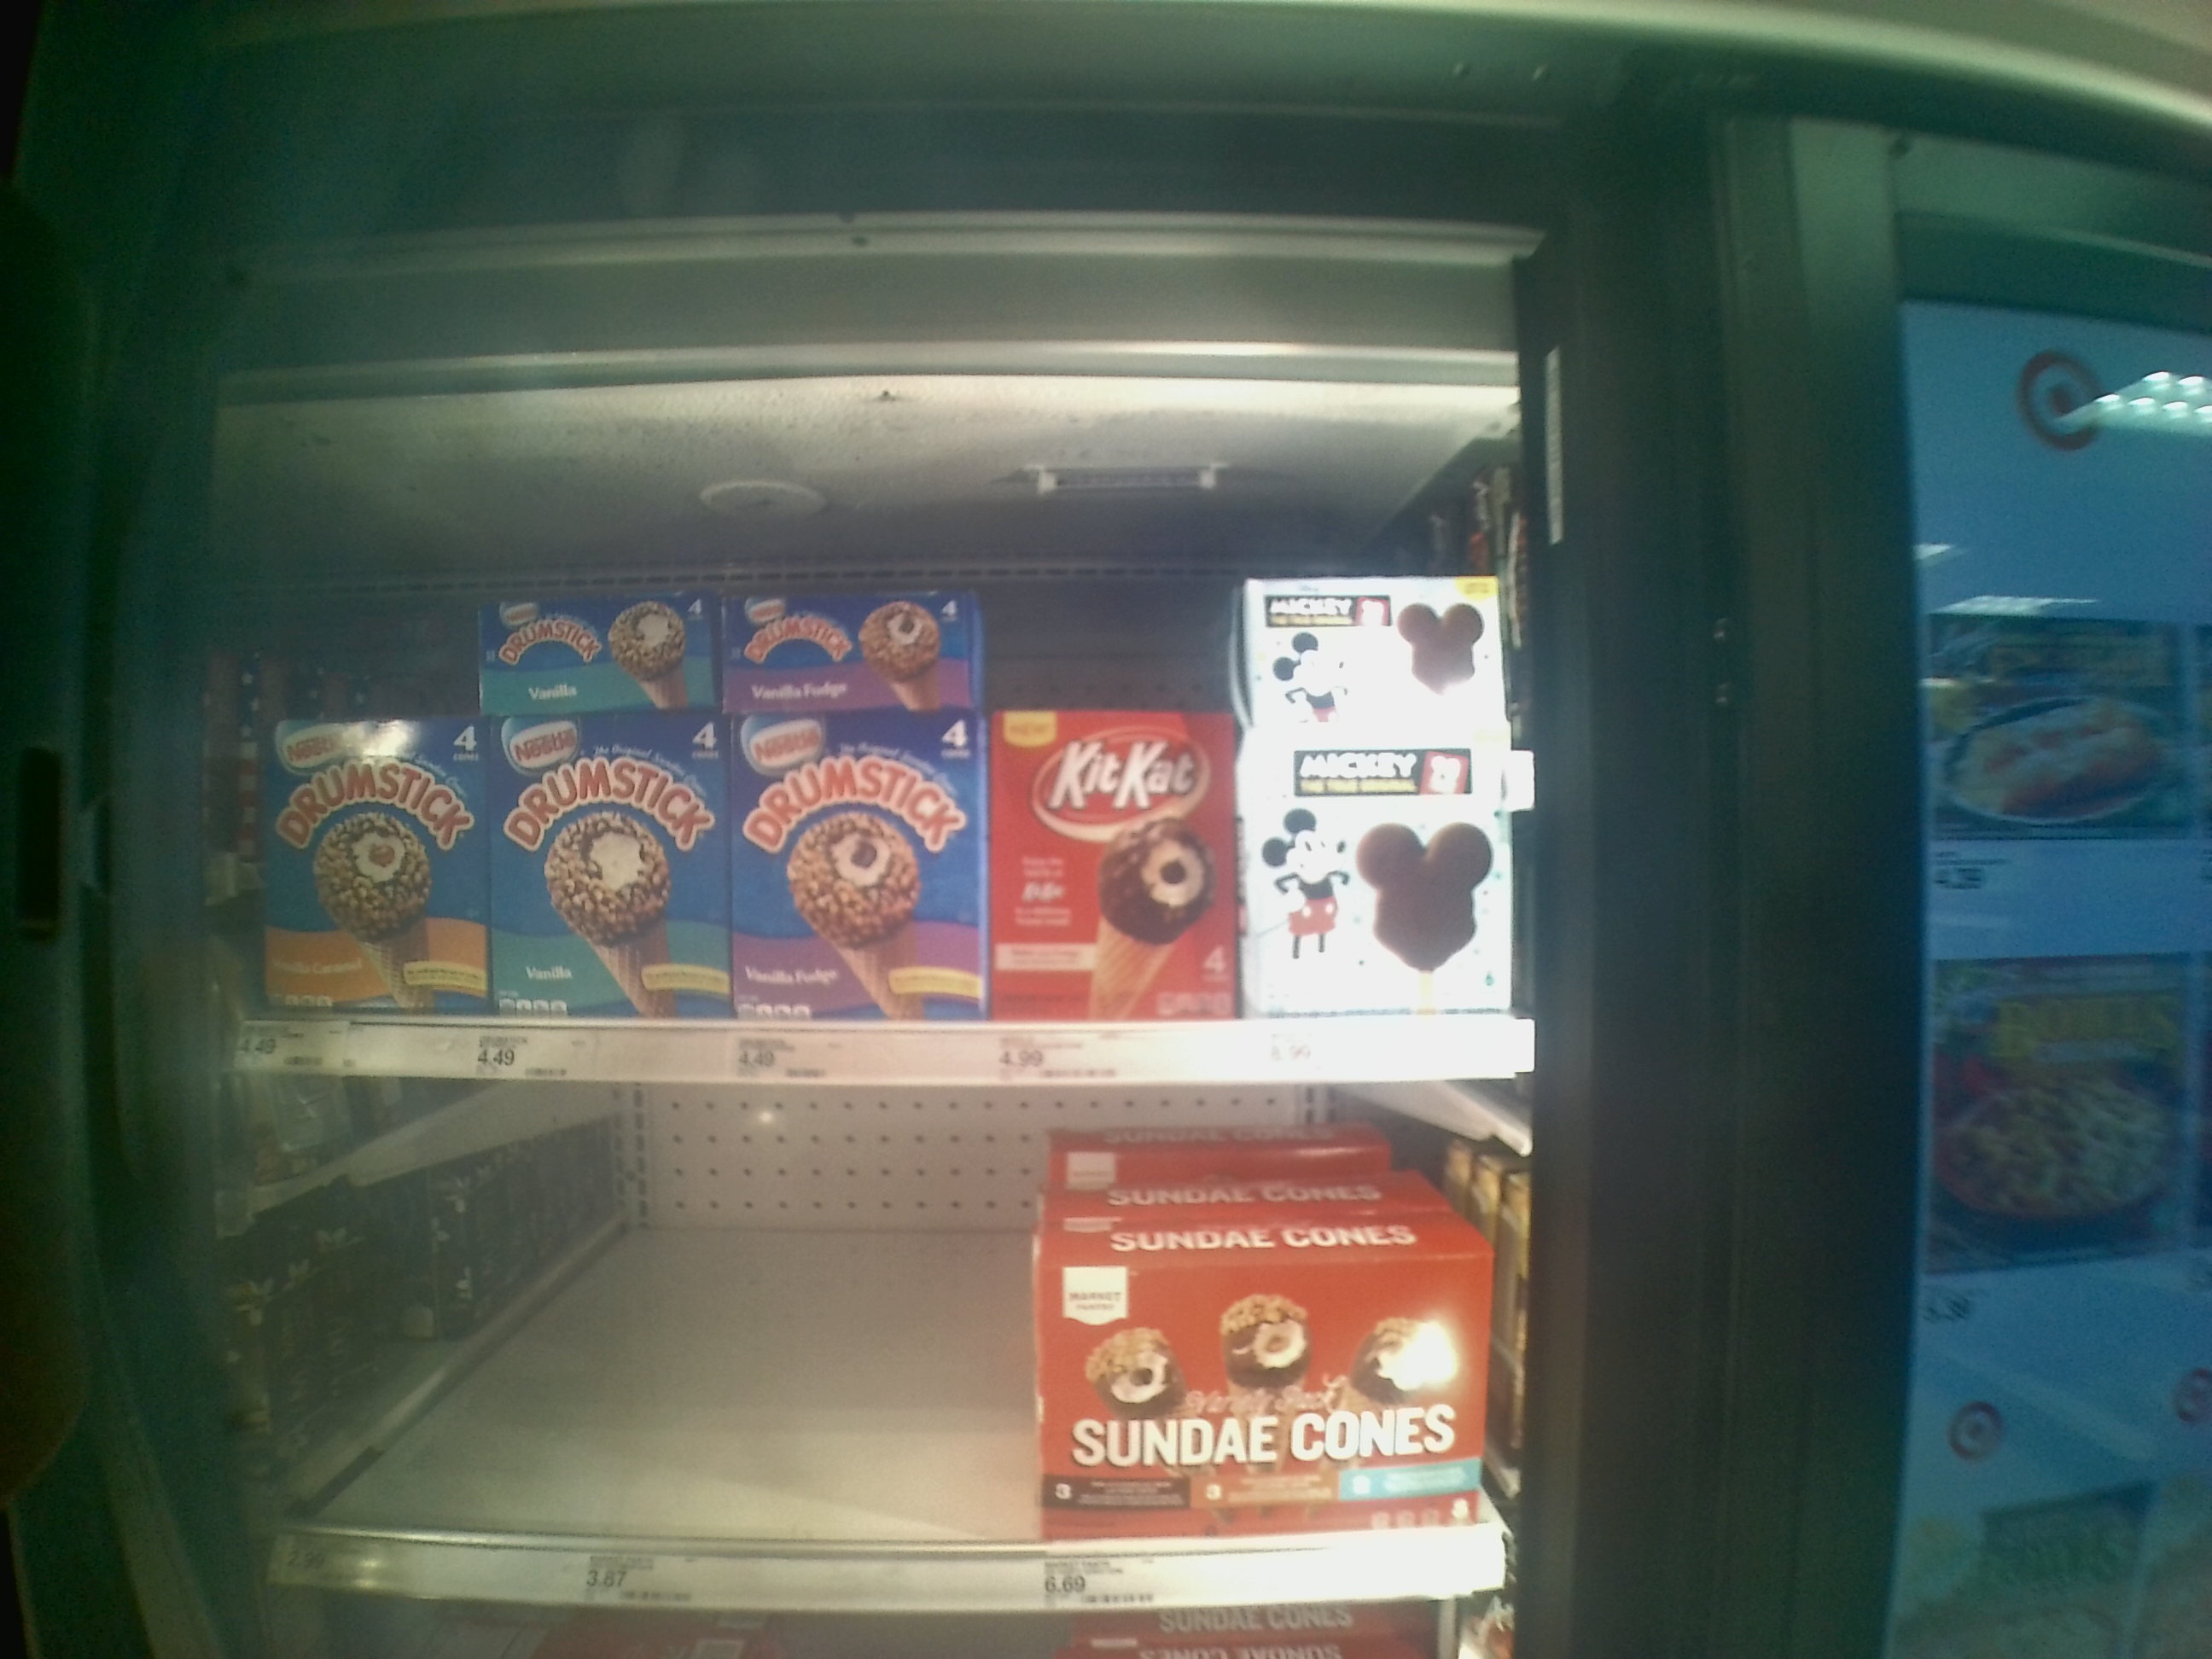ice-cream-shelf: (223, 532, 1541, 1080), (225, 1080, 1521, 1612)
